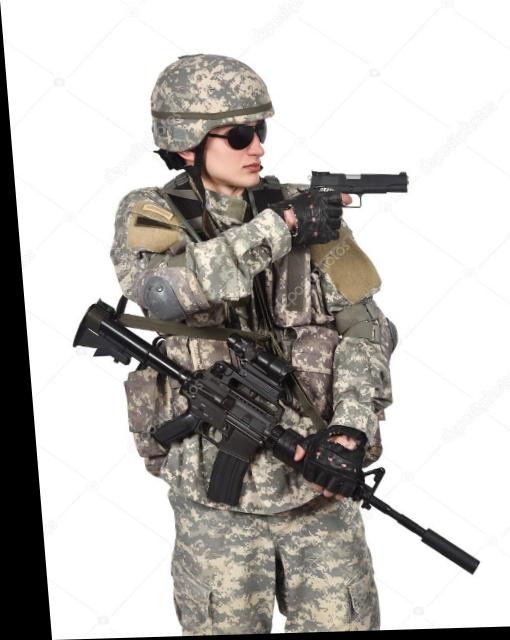other: (85, 32, 414, 638)
